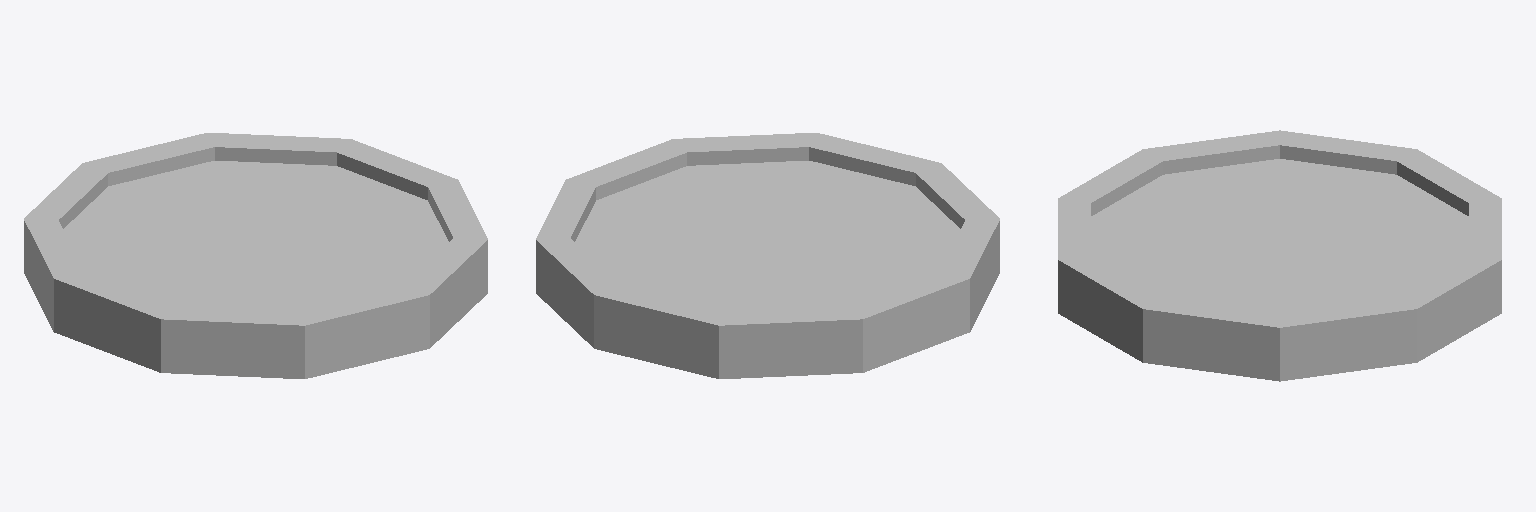
Rendered from fountain.obj.
The picture shows the model from 3 angles: view 1: azimuth 30°, elevation 25°; view 2: azimuth 150°, elevation 25°; view 3: azimuth 270°, elevation 25°; orthographic projection.
Parts seen in each view (by area): view 1: cylinder; view 2: cylinder; view 3: cylinder.
Part boxes in pixels (bbox=[...]): cylinder: bbox=[24, 133, 487, 378]; cylinder: bbox=[536, 133, 999, 378]; cylinder: bbox=[1058, 130, 1501, 381].
Bounding box in the file's own units: 7.89 × 1 × 7.5.